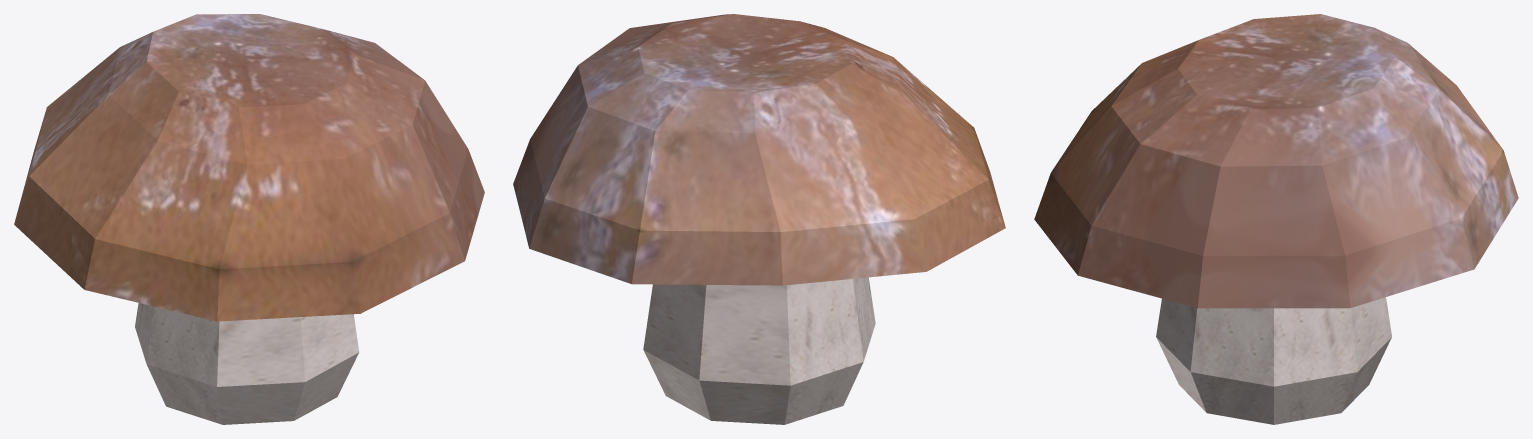
The model's file is S Luteus.glb.
3 views of the same model, side by side, from view 1: azimuth 30°, elevation 25°; view 2: azimuth 150°, elevation 25°; view 3: azimuth 270°, elevation 25° (orthographic). The views are drawn at different scales.
Visible parts, largest first — view 1: Cylinder.001; view 2: Cylinder.001; view 3: Cylinder.001.
Part boxes in pixels (bbox=[...]): Cylinder.001: bbox=[14, 14, 484, 424]; Cylinder.001: bbox=[513, 14, 1005, 424]; Cylinder.001: bbox=[1034, 14, 1518, 424].
Bounding box in the file's own units: 0.2471 × 0.1943 × 0.2546.
1 material, 1 textured.
